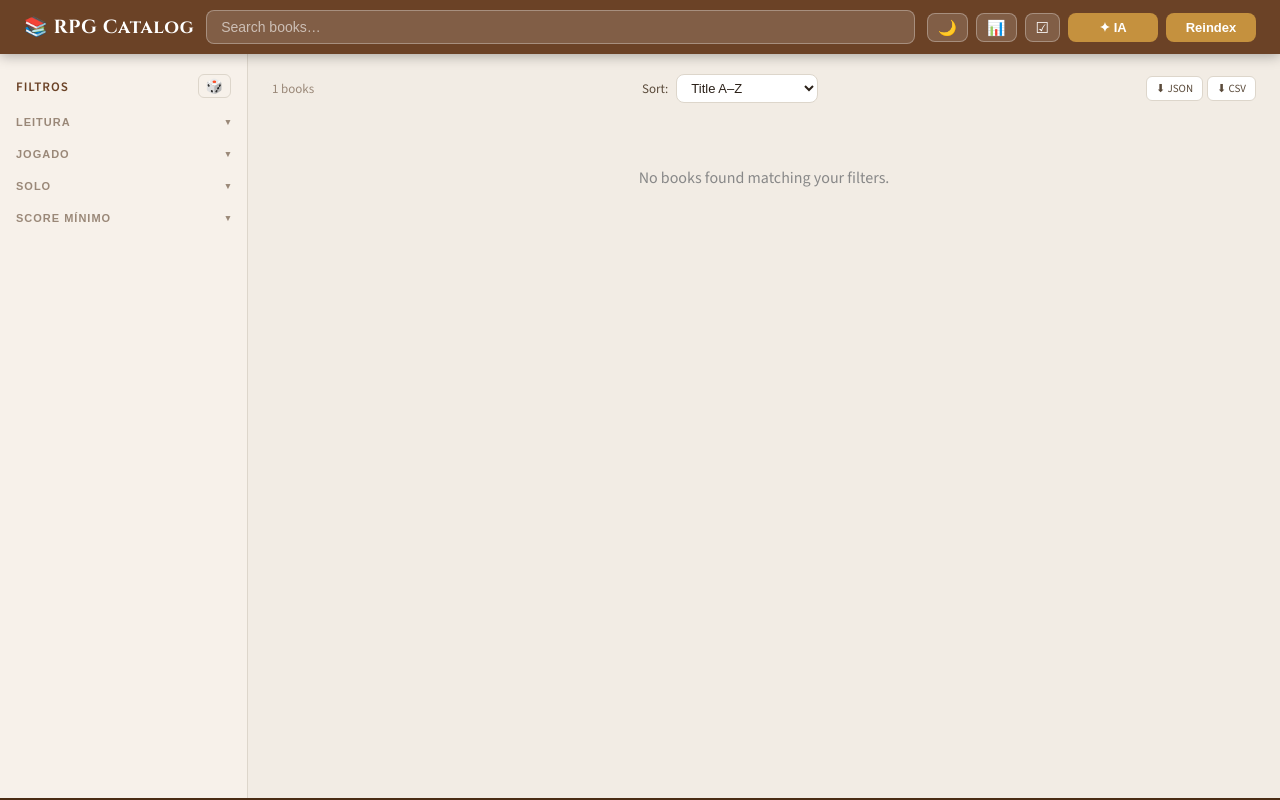
App — StatsPanel (C9) › clicking stats toggle shows StatsPanel content
Click the button named "estatísticas". click: (996, 27)
box: [976, 12, 1016, 42]
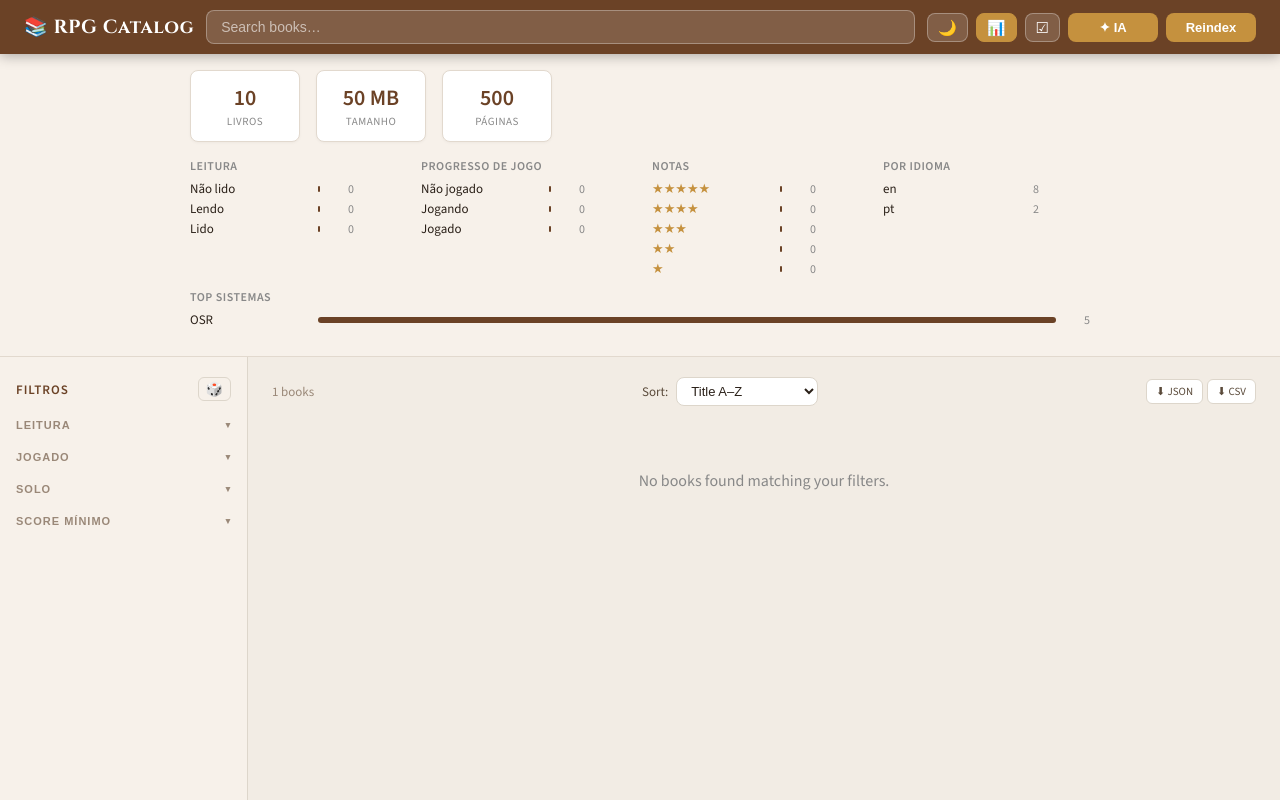
Expected: the heading "Por idioma" is shown, [883, 158, 951, 174]
